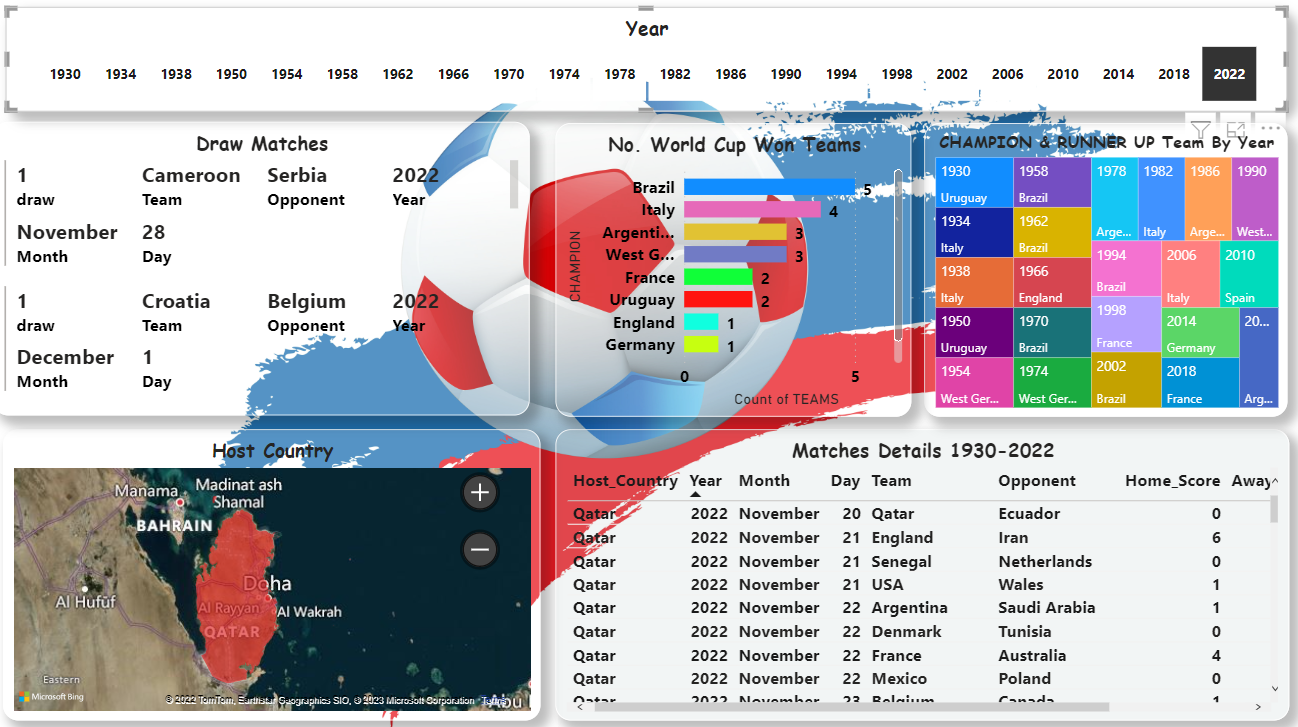

This screenshot's page, from the dashboard's own definition file:
{"tool":"powerbi","page":{"name":"Page 1","canvas":[1280,720],"ordinal":0},"visuals":[{"type":"slicer","title":"Year","fields":{"Values":["Fifa 1930-2022.Year"]},"box":[12.2,13.4,1253,102.7],"z":0},{"type":"filledMap","title":"Host Country","fields":{"Category":["Fifa 1930-2022.country"]},"box":[9.8,426.6,525.6,284.8],"z":1000},{"type":"tableEx","title":"Matches Details 1930-2022","fields":{"Values":["Fifa 1930-2022.Country","Fifa 1930-2022.date.Variation.Date Hierarchy.Year","Fifa 1930-2022.date.Variation.Date Hierarchy.Month","Fifa 1930-2022.date.Variation.Date Hierarchy.Day","Fifa 1930-2022.team","Fifa 1930-2022.opponent","Fifa 1930-2022.Home_Score","Sum(Fifa 1930-2022.away_score)","Fifa 1930-2022.winning_team"]},"box":[550.1,426.6,717.6,284.8],"z":2000},{"type":"multiRowCard","title":"Draw Matches","fields":{"Values":["Fifa 1930-2022.draw","Fifa 1930-2022.Team","Fifa 1930-2022.Opponent","Fifa 1930-2022.Date.Variation.Date Hierarchy.Year","Fifa 1930-2022.Date.Variation.Date Hierarchy.Month","Fifa 1930-2022.Date.Variation.Date Hierarchy.Day"]},"box":[0,125.9,524.4,287.3],"z":3000},{"type":"treemap","title":"CHAMPION & RUNNER UP Team By Year","fields":{"Group":["FIFA - World Cup Summary.YEAR"],"Details":["FIFA - World Cup Summary.CHAMPION"],"Values":["CountNonNull(FIFA - World Cup Summary.GOALS SCORED)"]},"box":[911,127,355,287],"z":4000},{"type":"barChart","title":"No. World Cup Won Teams","fields":{"Category":["FIFA - World Cup Summary.CHAMPION"],"Y":["CountNonNull(FIFA - World Cup Summary.TEAMS)"]},"box":[550.1,127.1,348.4,287.3],"z":5000}]}

Visuals, with their boxes in screenshot pixels (x1, y1, x2, y2), scaled from the page's 1280x720 canvas onto the 1298x727 screenshot:
"Year" slicer: (x1=12, y1=14, x2=1283, y2=117)
"Host Country" filledMap: (x1=10, y1=431, x2=543, y2=718)
"Matches Details 1930-2022" tableEx: (x1=558, y1=431, x2=1286, y2=718)
"Draw Matches" multiRowCard: (x1=0, y1=127, x2=532, y2=417)
"CHAMPION & RUNNER UP Team By Year" treemap: (x1=924, y1=128, x2=1284, y2=418)
"No. World Cup Won Teams" barChart: (x1=558, y1=128, x2=911, y2=418)
